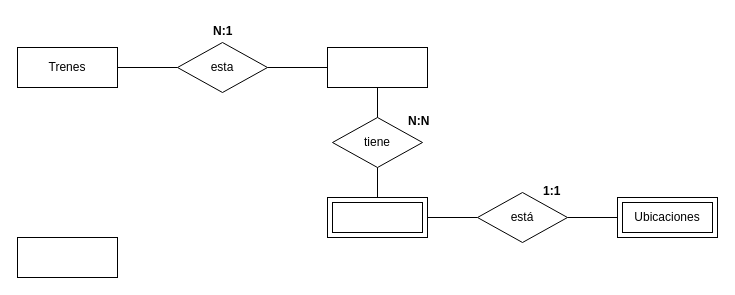
This 735x295 diagram has some shape labels left out. Here are the shapes that lost their labels. From the top down, the centre of each, then its label:
the point at 377,67: Lineas
the point at 377,217: Estaciones
the point at 67,257: Conductores
